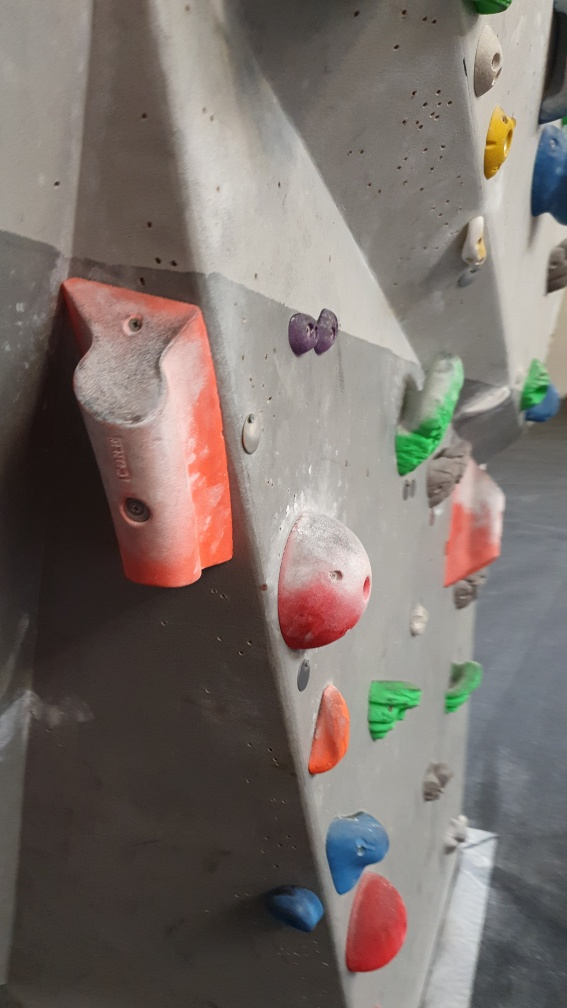Hand Start: (238, 415, 263, 459), (295, 657, 313, 693)
Jug: (395, 352, 467, 482), (366, 671, 425, 745), (442, 659, 482, 718)
Pinch: (51, 272, 237, 596)
Sloper: (275, 507, 374, 657), (341, 869, 411, 980)
